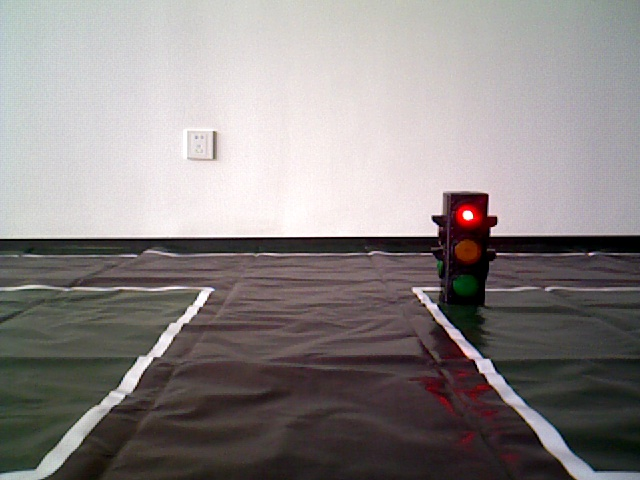red: (446, 194, 485, 303)
